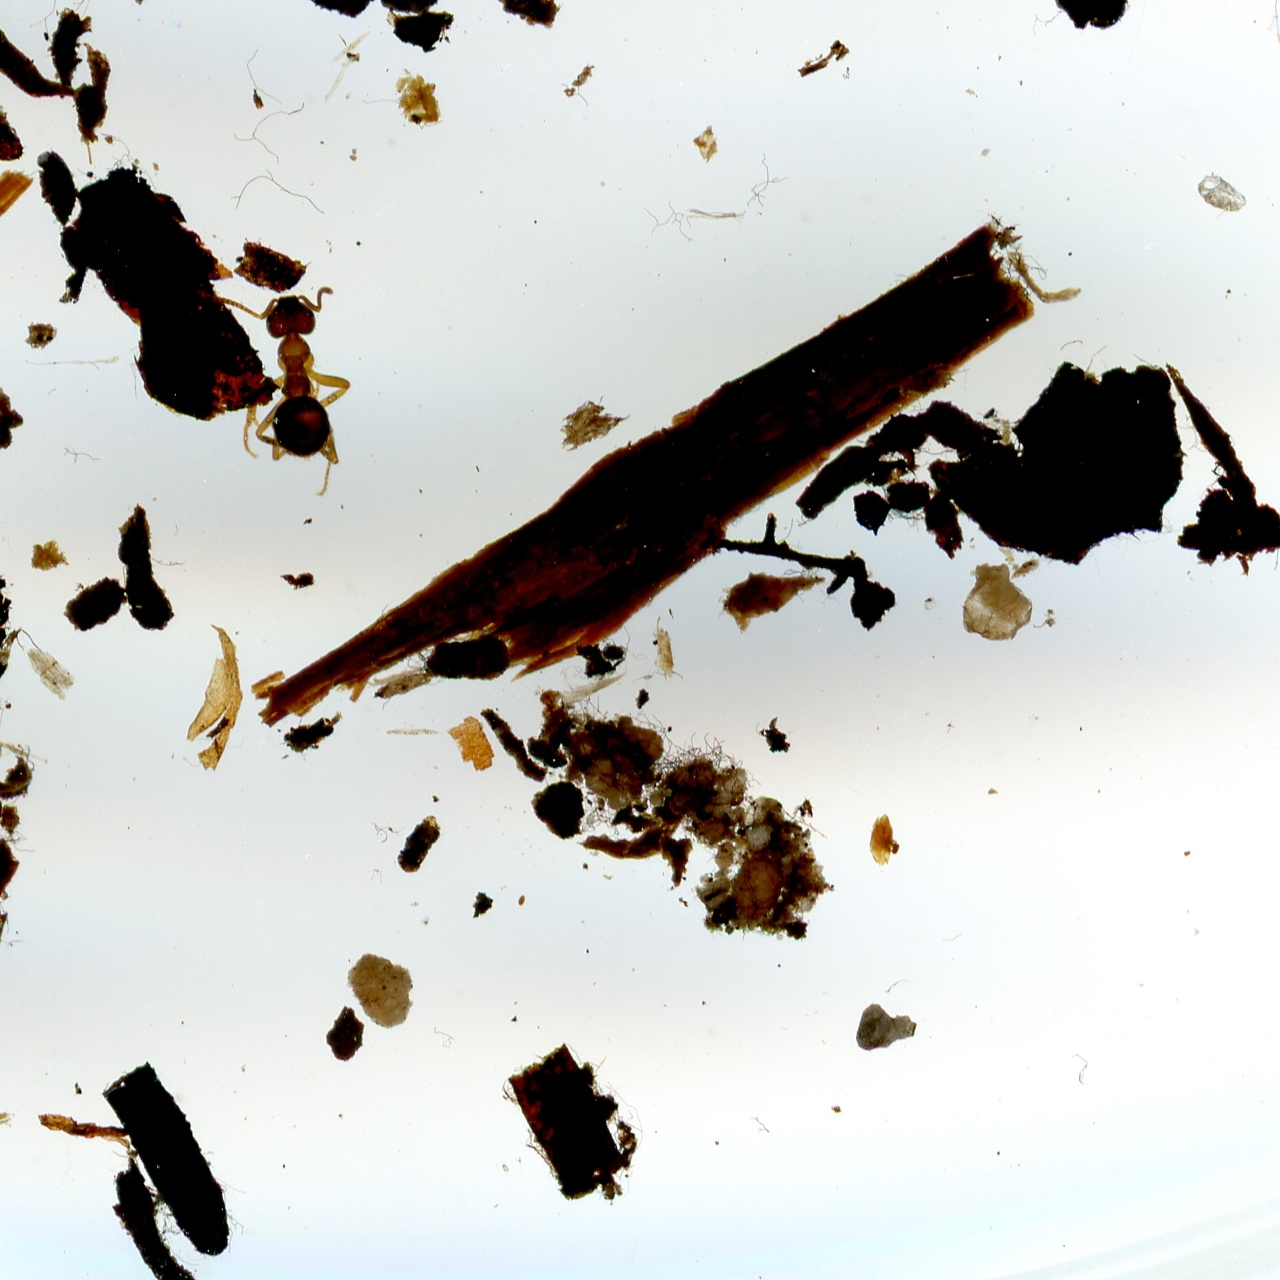arthropod: (210, 283, 353, 500)
